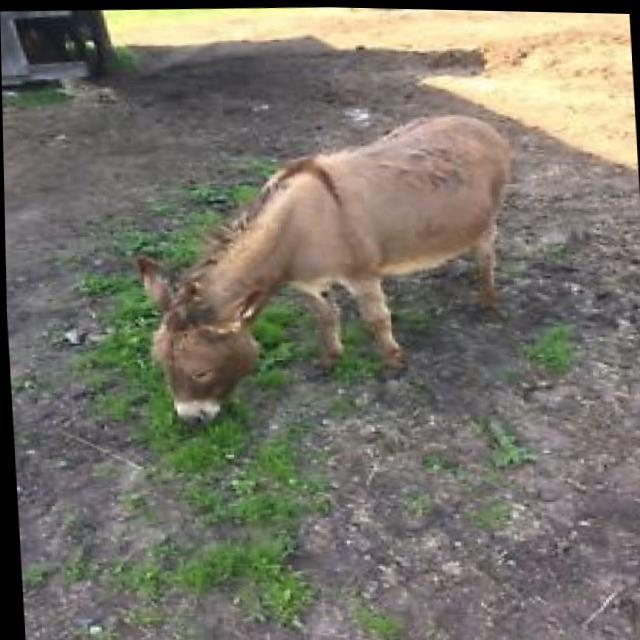Donkey: (129, 100, 523, 430)
